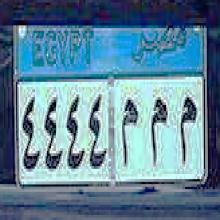4: (41, 90, 64, 176), (20, 92, 42, 178), (64, 88, 86, 173), (86, 91, 108, 171)
meem: (118, 88, 139, 172), (148, 97, 170, 170), (178, 89, 198, 167)
